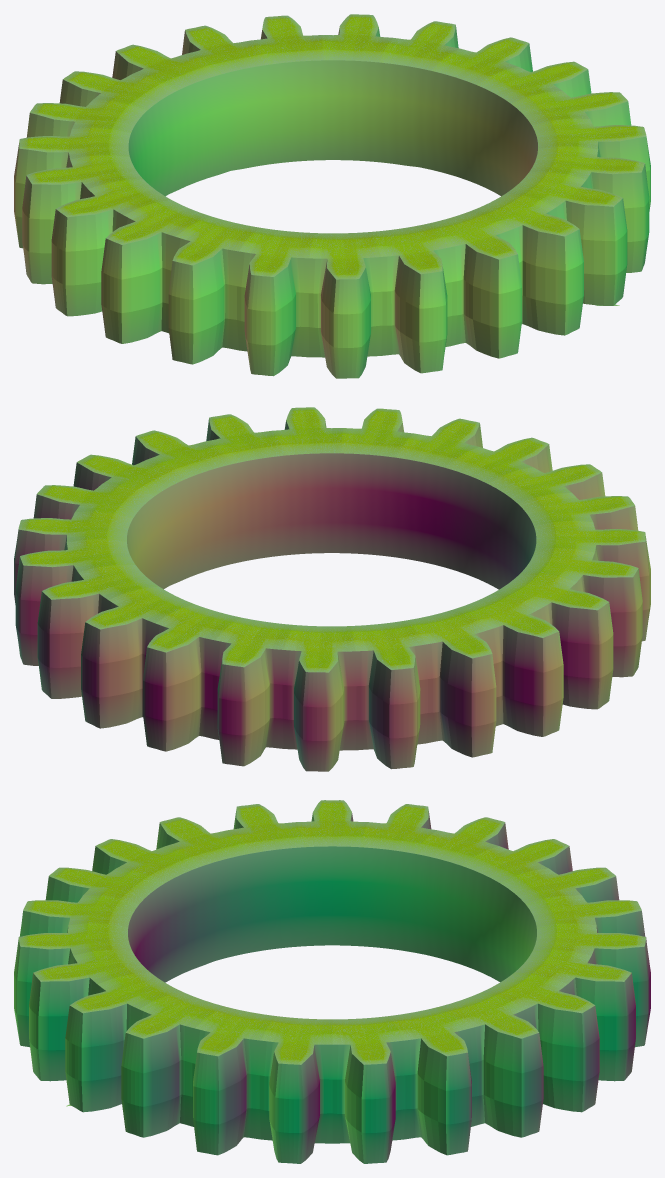
The model's file is Gear.fbx.
3 views of the same model, one above another, from view 1: azimuth 30°, elevation 25°; view 2: azimuth 150°, elevation 25°; view 3: azimuth 270°, elevation 25° (orthographic).
Parts seen in each view (by area): view 1: Gear; view 2: Gear; view 3: Gear.
Part boxes in pixels (x1,y1,x2,y2): Gear: [14, 14, 650, 378]; Gear: [14, 407, 650, 771]; Gear: [14, 800, 650, 1163].
Bounding box in the file's own units: 233 × 42.39 × 233.
